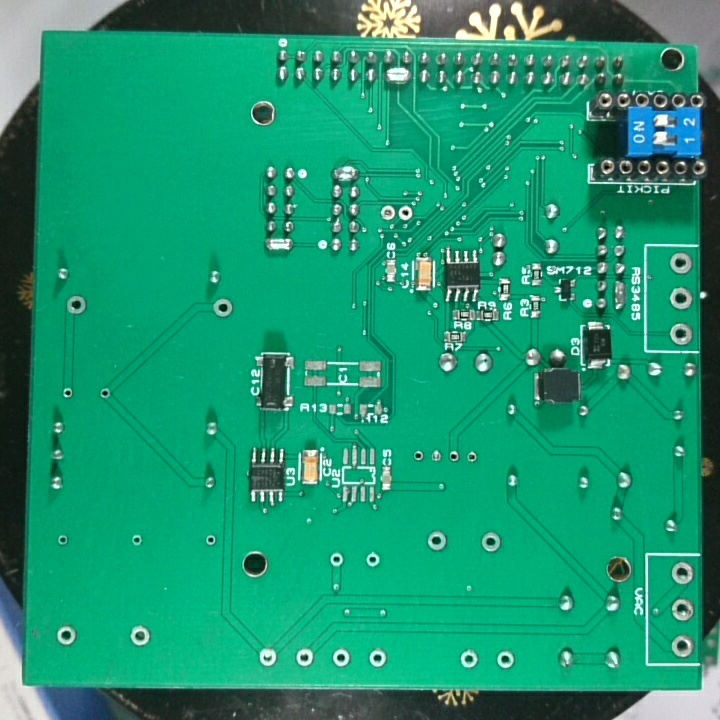F: (667, 250, 694, 278), (668, 632, 695, 660), (125, 623, 153, 650), (668, 320, 696, 346), (669, 595, 694, 623), (54, 621, 79, 649), (668, 560, 694, 586), (209, 293, 234, 320), (668, 285, 693, 311), (63, 292, 88, 318), (425, 527, 449, 554), (477, 529, 504, 553), (256, 644, 278, 670), (457, 645, 479, 670), (292, 645, 315, 668), (365, 646, 387, 670), (329, 646, 351, 669), (494, 647, 515, 670), (362, 549, 383, 571), (326, 549, 347, 570), (378, 201, 397, 222), (462, 446, 479, 468), (397, 203, 415, 223), (54, 529, 70, 549), (411, 446, 427, 466), (445, 447, 460, 466), (429, 447, 444, 466), (128, 531, 143, 549), (59, 383, 74, 401), (96, 383, 111, 401), (201, 532, 218, 546)
P: (262, 234, 293, 255), (610, 277, 628, 313), (383, 66, 412, 86), (330, 163, 359, 183)
